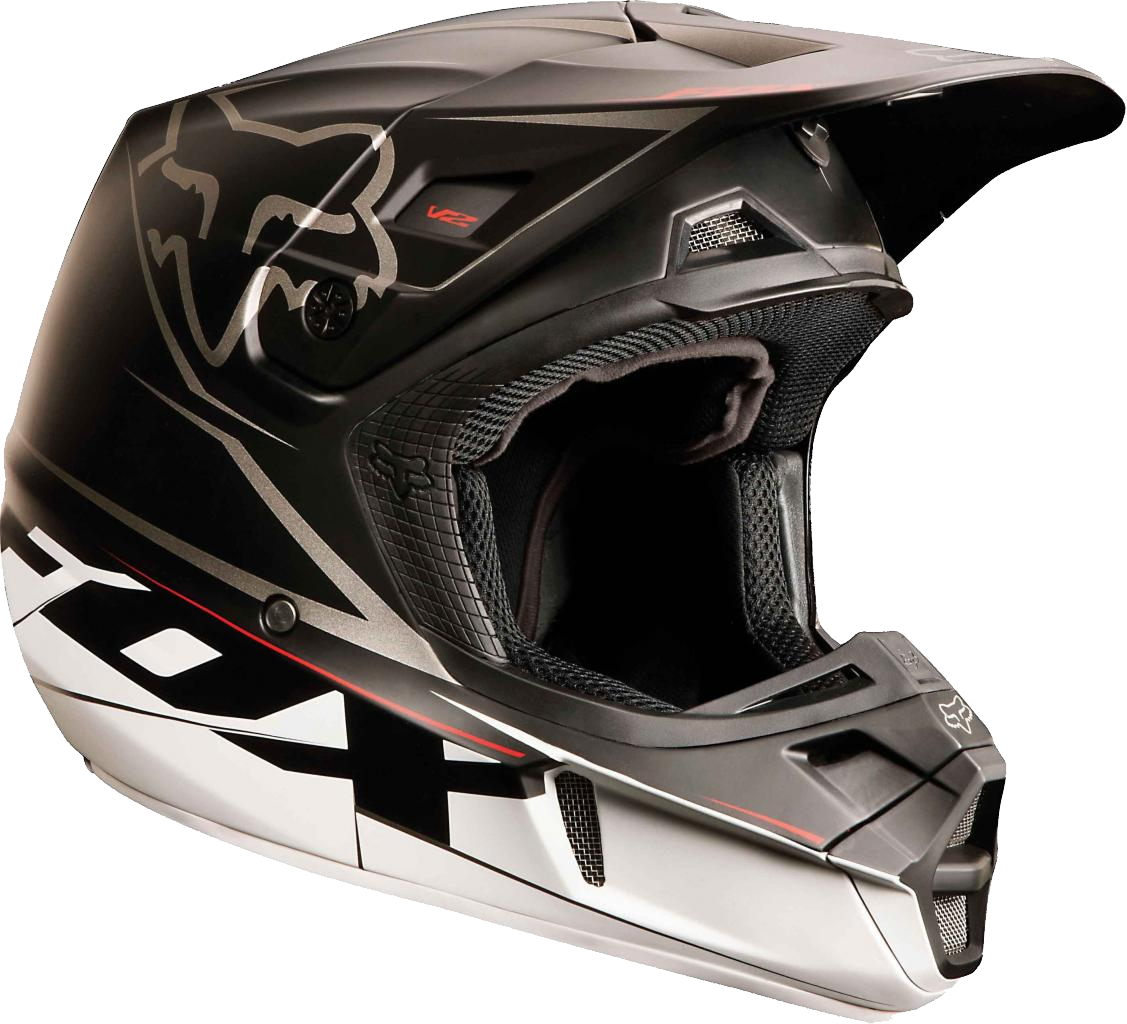with_helmet: (20, 1, 1121, 1024)
